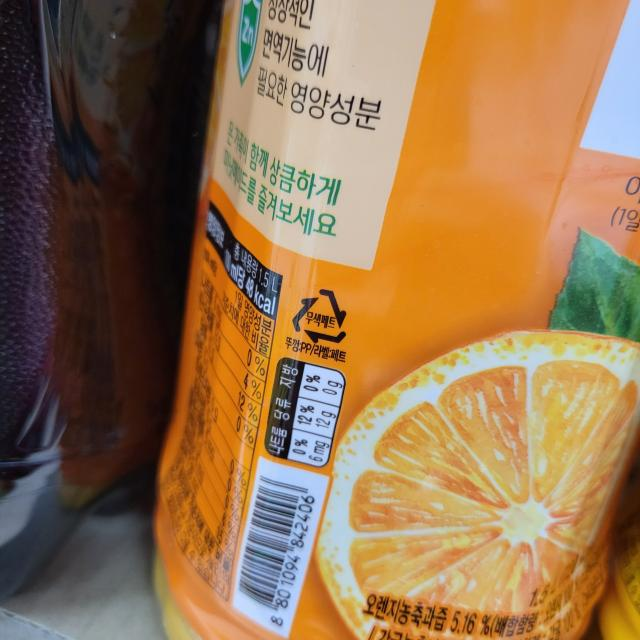ColorlessPET: (289, 283, 351, 349)
